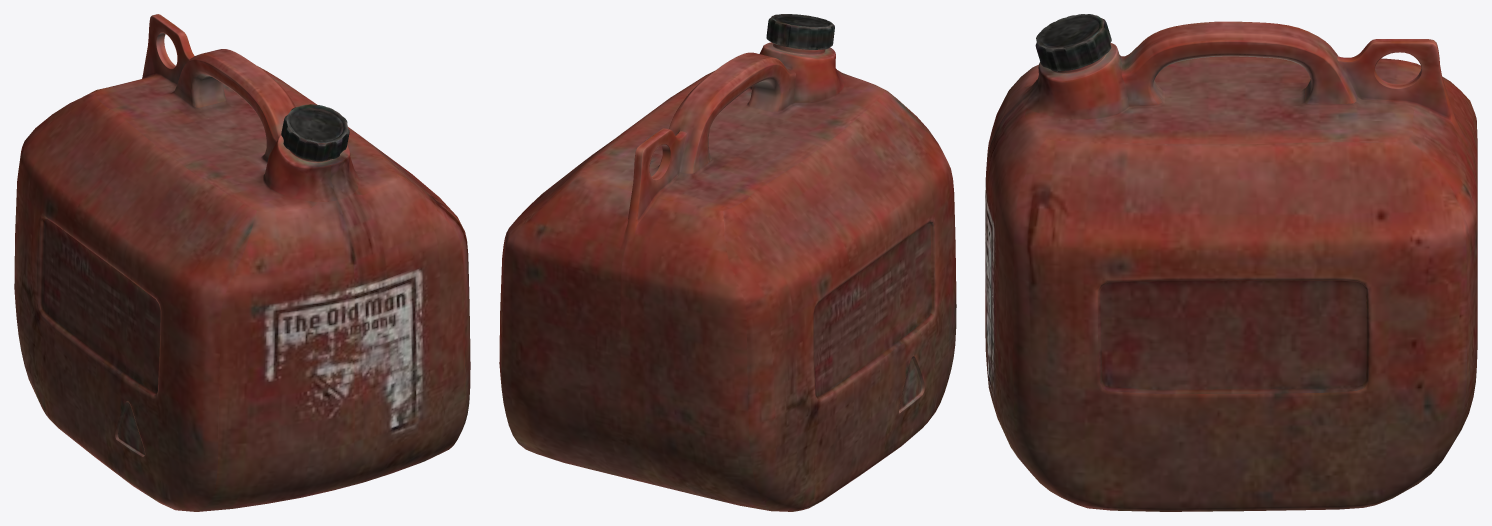
Rendered from plastic_jerrycan.glb.
The picture shows the model from 3 angles, left to right: view 1: azimuth 30°, elevation 25°; view 2: azimuth 150°, elevation 25°; view 3: azimuth 270°, elevation 25°; orthographic projection. The views are drawn at different scales.
Visible parts, largest first — view 1: plastic_jerrycan; view 2: plastic_jerrycan; view 3: plastic_jerrycan.
Boxes of the visible parts, bbox=[...] form: plastic_jerrycan: bbox=[14, 14, 470, 511]; plastic_jerrycan: bbox=[499, 14, 956, 511]; plastic_jerrycan: bbox=[985, 14, 1477, 511].
Bounding box in the file's own units: 0.268 × 0.3184 × 0.3409.
1 material, 1 textured.
